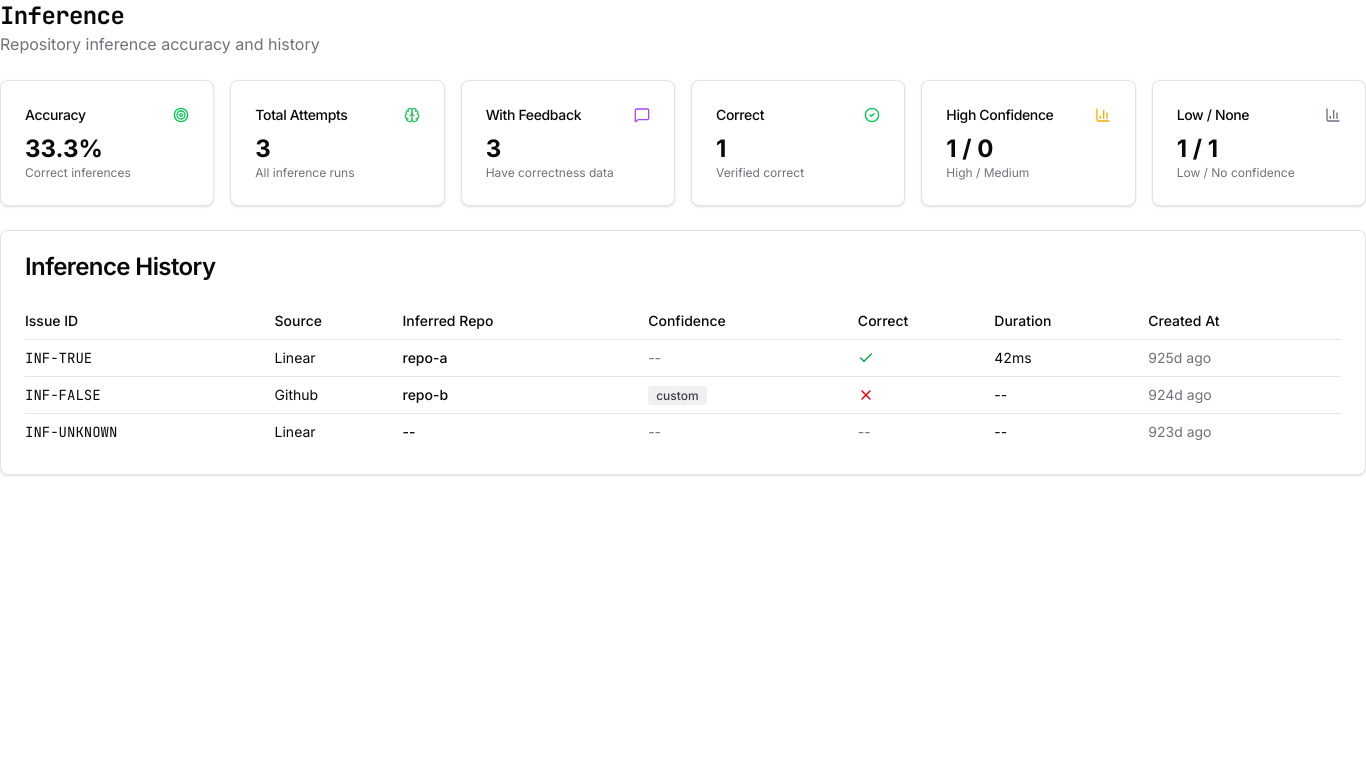
Scenario: InferencePage interactions › renders table branches and modal detail variants for inference history entries
Expected: the text "INF-TRUE" is shown, [25,349,92,367]
Expected: the text "INF-UNKNOWN" is shown, [25,423,117,441]
Click the text "INF-FALSE".
click(63, 395)  # box [25,386,101,404]
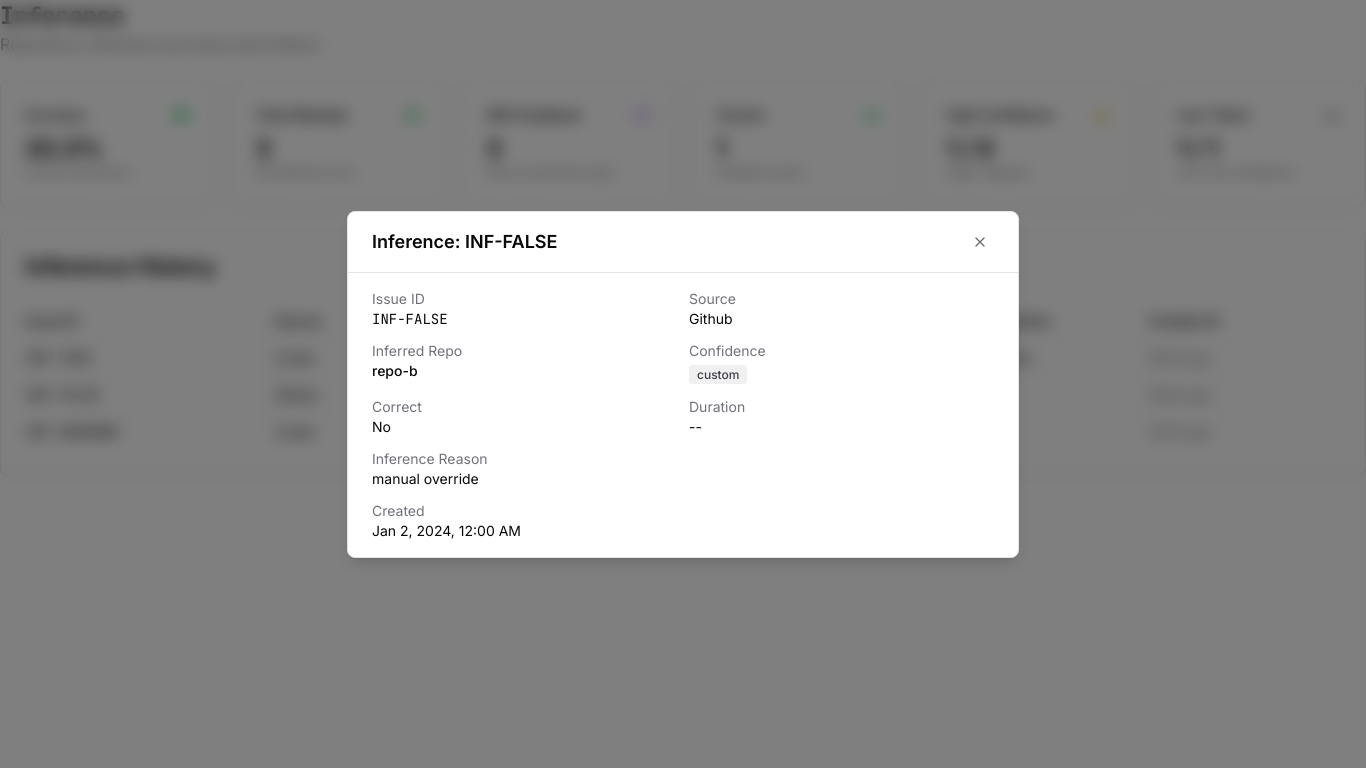
Expected: the heading "Inference: INF-FALSE" is shown, [372,228,558,256]
Expected: the text "No" is shown, [372,418,391,434]
Expected: the text "manual override" is shown, [372,470,479,486]
Press Escape
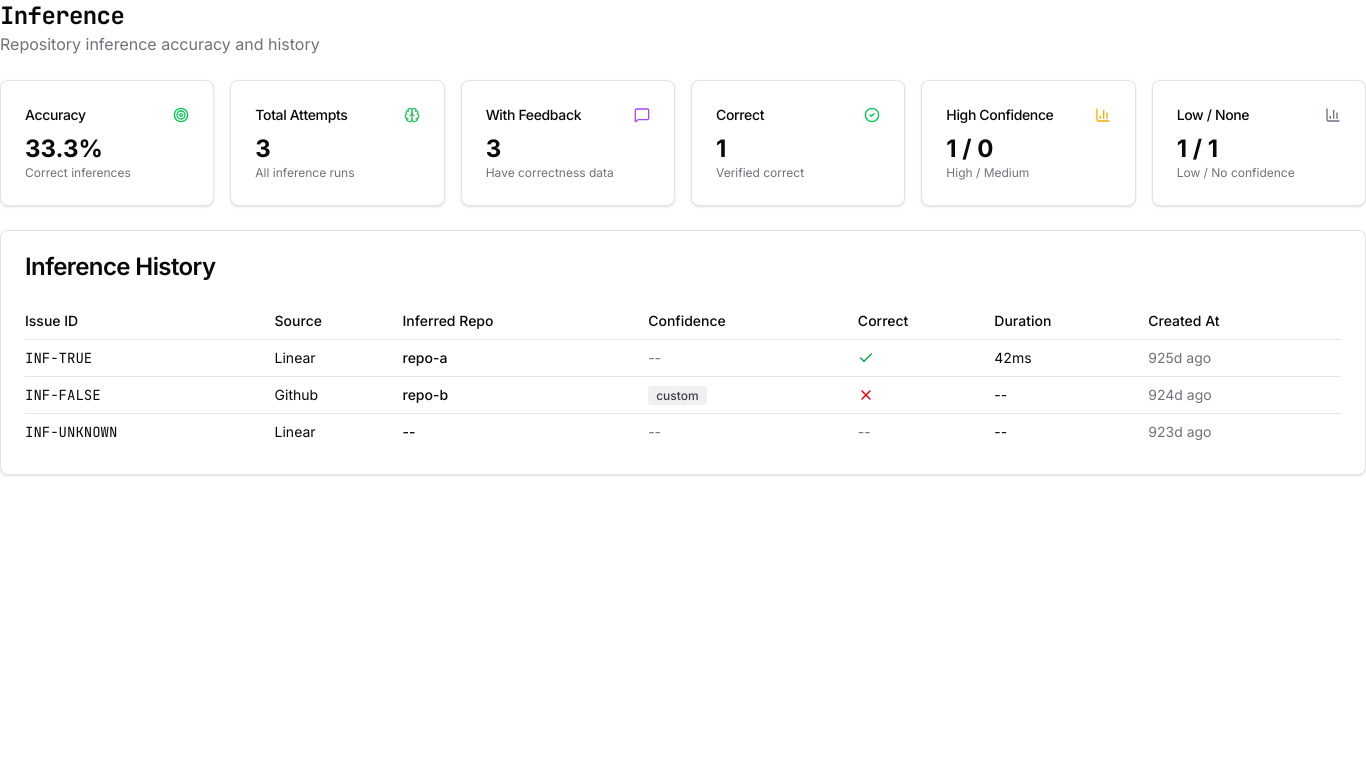
Expected: the heading "Inference: INF-FALSE" is gone
Click the text "INF-TRUE".
click(59, 358)  # box [25,349,92,367]
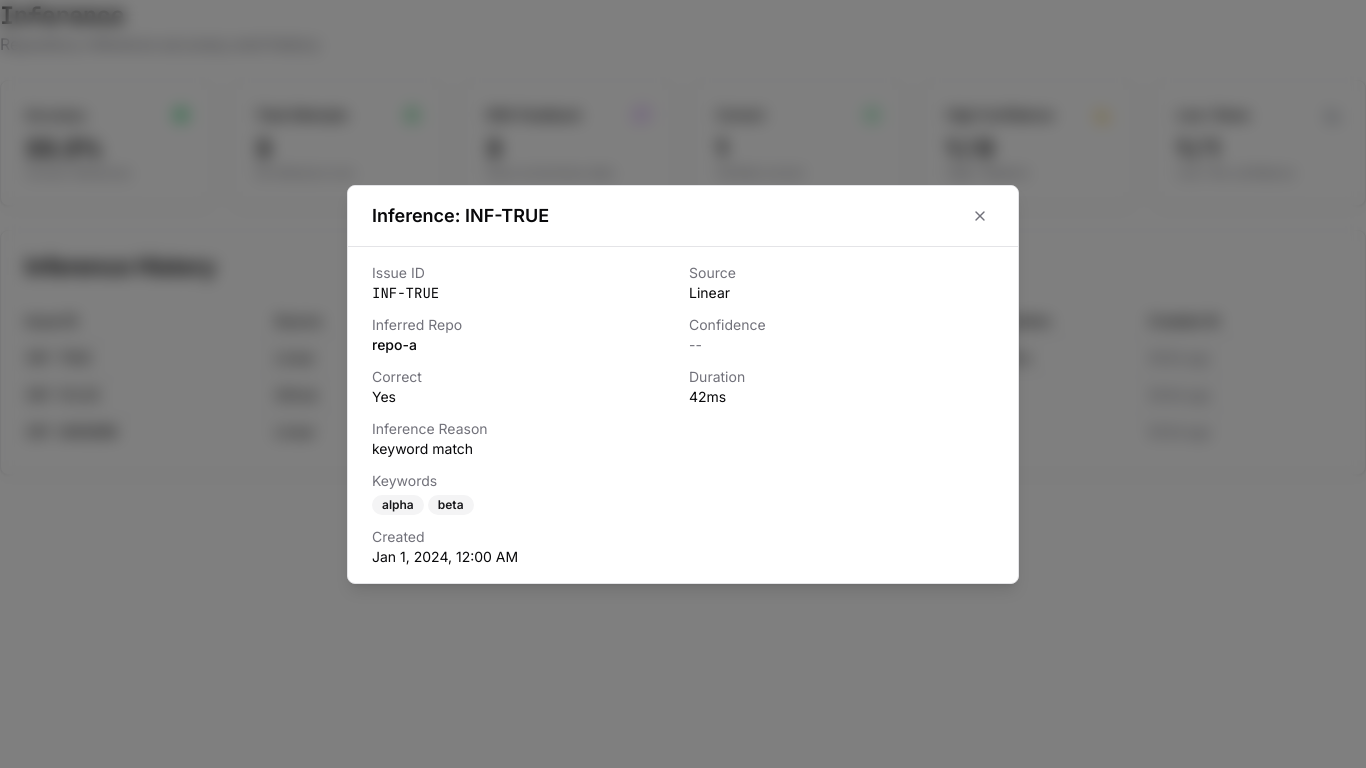
Expected: the heading "Inference: INF-TRUE" is shown, [372,202,549,230]
Expected: the text "Yes" is shown, [372,388,396,404]
Expected: the text "keyword match" is shown, [372,440,473,456]
Press Escape
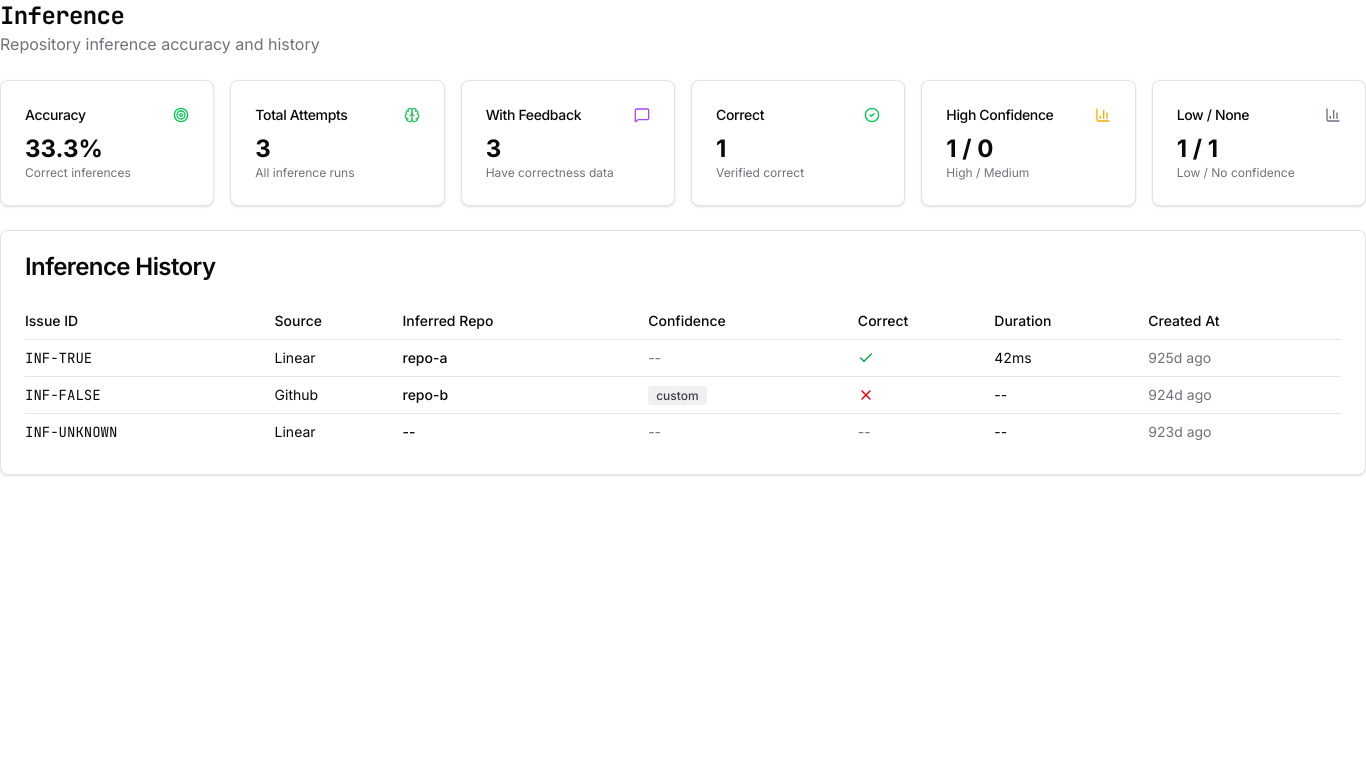
Expected: the heading "Inference: INF-TRUE" is gone
Click the text "INF-UNKNOWN".
click(71, 432)  # box [25,423,117,441]
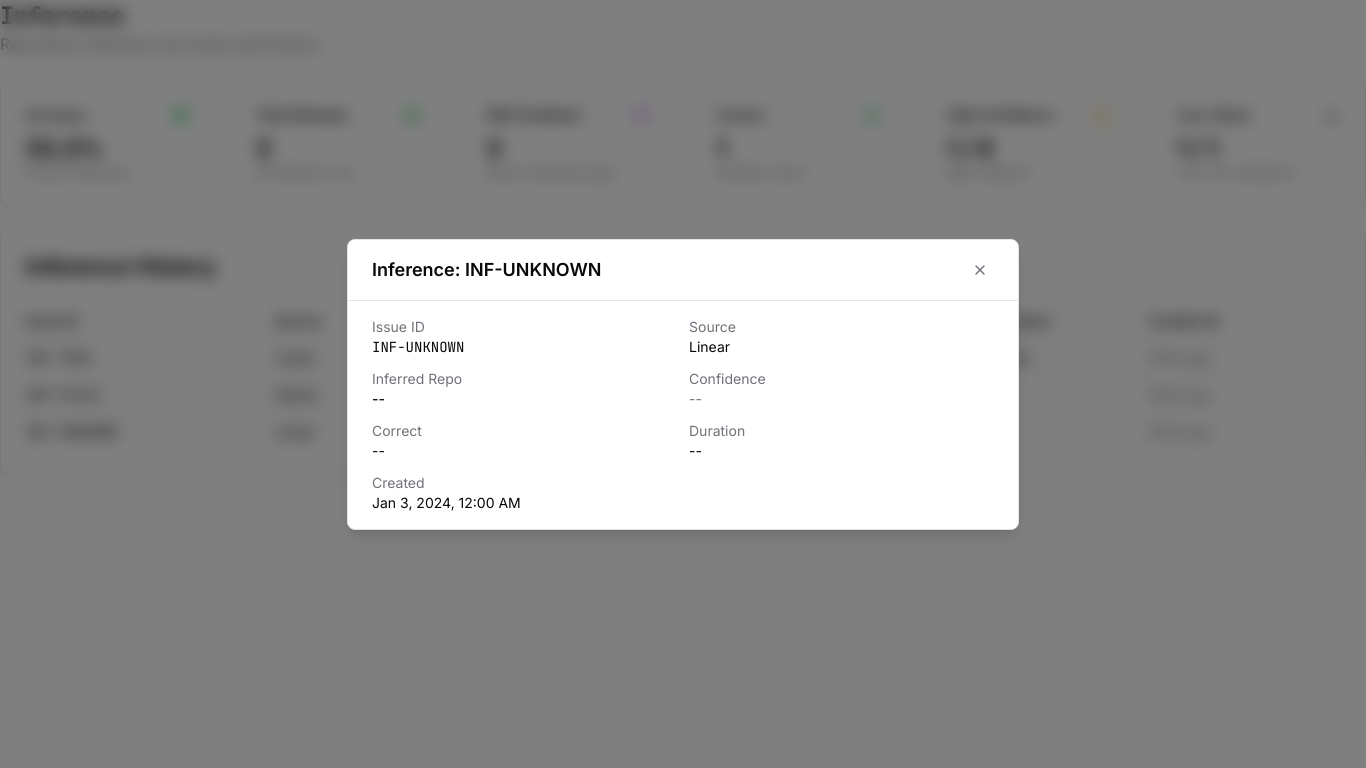
Expected: the text "Inference Reason" is not shown
Expected: the heading "Inference: INF-UNKNOWN" is shown, [372,256,601,284]
